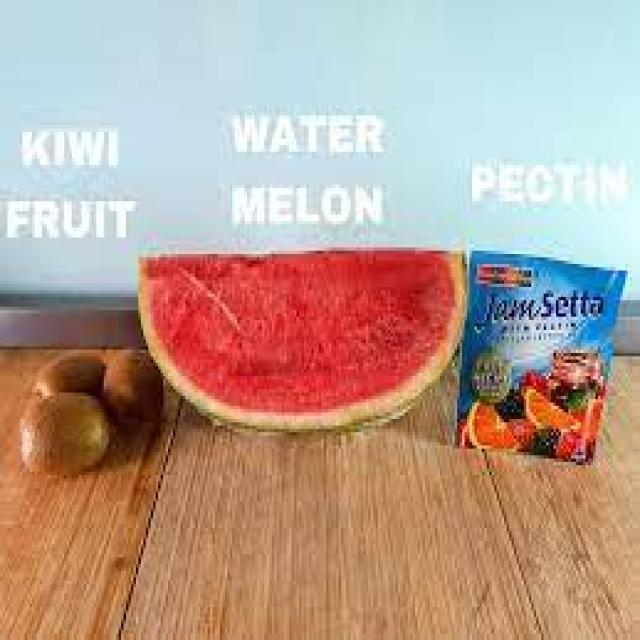watermelon: (136, 244, 467, 432)
